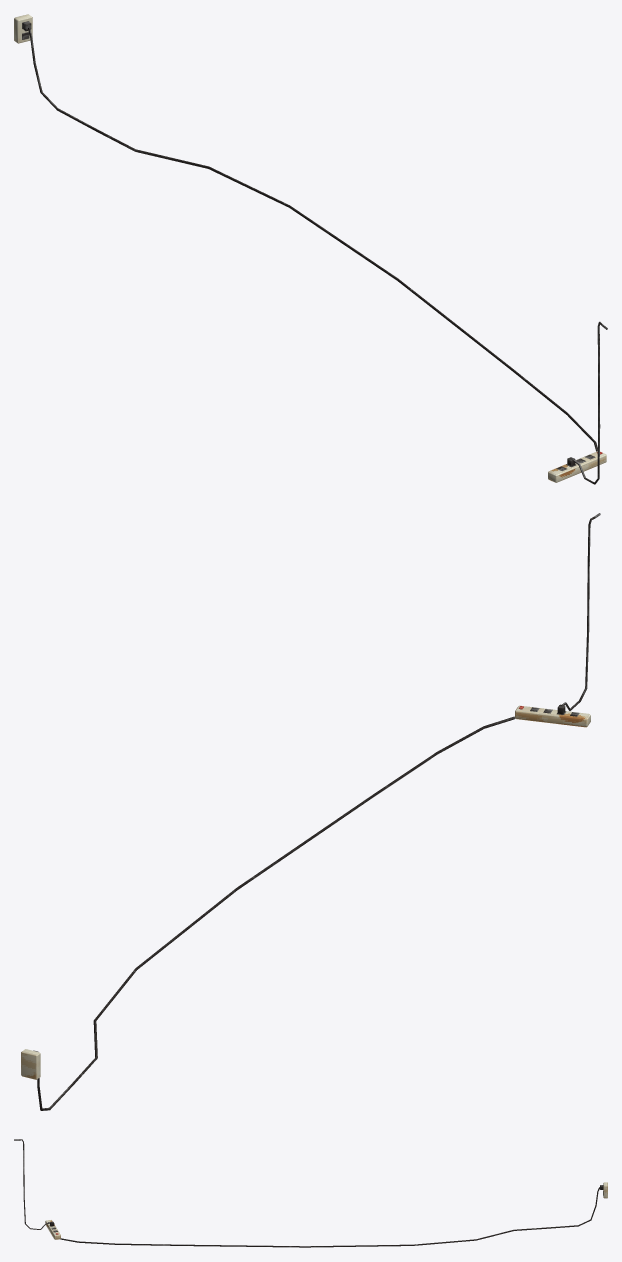
File: gk_cordlamp.glb
3 renders of one model, top to bottom at view 1: azimuth 30°, elevation 25°; view 2: azimuth 150°, elevation 25°; view 3: azimuth 270°, elevation 25°, orthographic. The views are drawn at different scales.
Parts seen in each view (by area): view 1: mesh; view 2: mesh; view 3: mesh.
Boxes of the visible parts, x1=… form: mesh: x1=14, y1=14, x2=607, y2=484; mesh: x1=21, y1=513, x2=600, y2=1110; mesh: x1=14, y1=1139, x2=607, y2=1247.
Size of the model in its own units: 0.4729 by 0.7942 by 4.71.
1 material, 1 textured.
